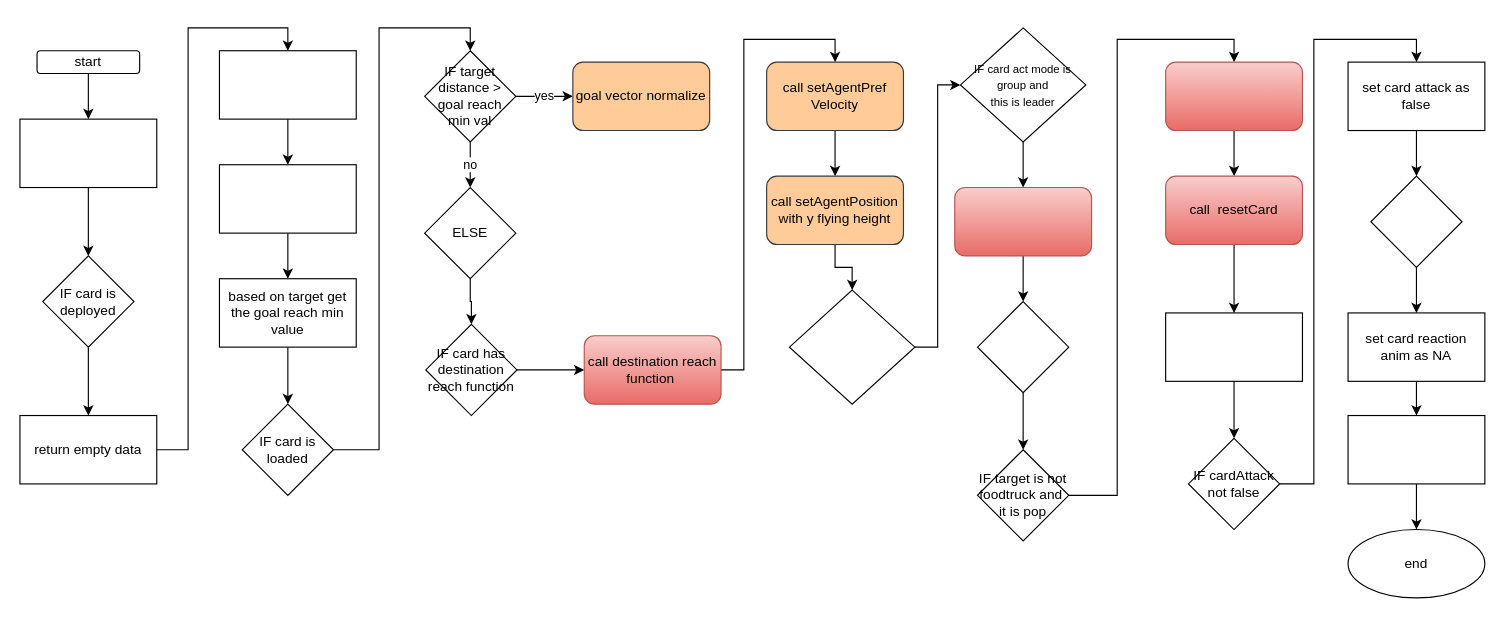
Some shapes in this 1505 by 618 pixel diagram are drawn without their labels. The centre of each missing label's shape, as x and y in pixels:
"calculate the goal distance vector" belongs at pixel 287 84.
"call identify target agent" belongs at pixel 1023 221.
"call releasePopGrp" belongs at pixel 1233 96.
"construct the card position array" belongs at pixel 1233 346.
"construct the position object of card" belongs at pixel 287 198.
"get the agent id and initialize the position array" belongs at pixel 88 153.
"IF card not spell and stop search false and not attacked by stun" belongs at pixel 851 346.
"IF card reaction anim not NA" belongs at pixel 1416 221.
"IF target is moved away" belongs at pixel 1022 346.
"return the position object" belongs at pixel 1416 449.
